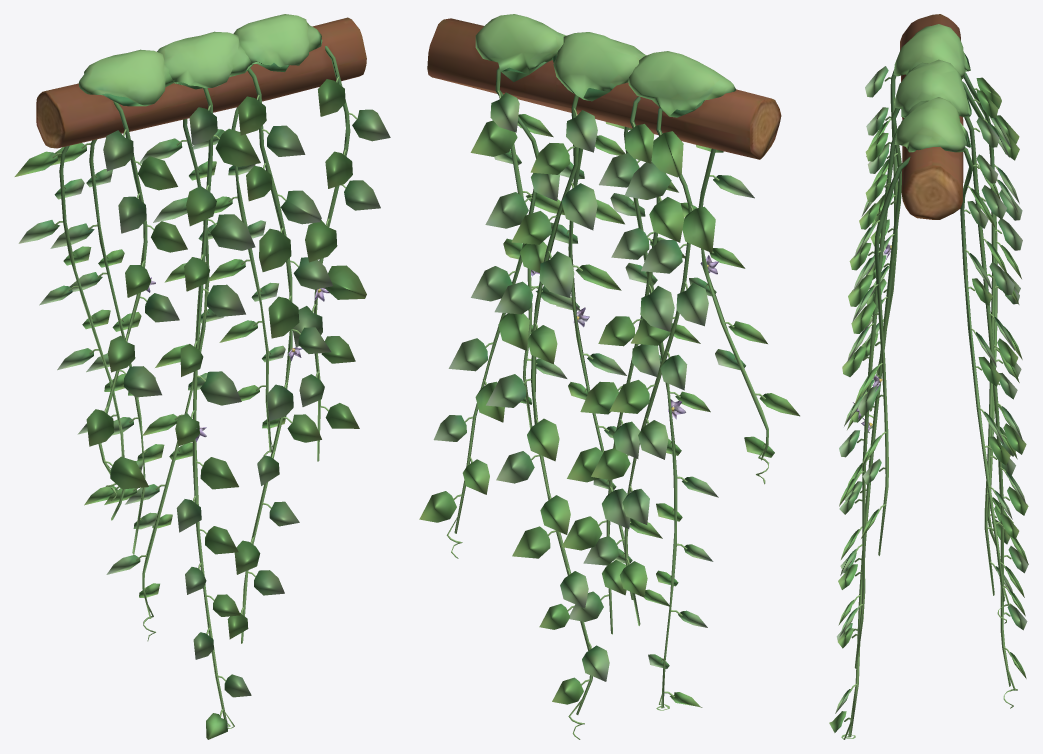
Rendered from hanging-vine.glb.
3 views of the same model, side by side, from view 1: azimuth 30°, elevation 25°; view 2: azimuth 150°, elevation 25°; view 3: azimuth 270°, elevation 25° (orthographic). The views are drawn at different scales.
Parts seen in each view (by area): view 1: hanging-vine_body; view 2: hanging-vine_body; view 3: hanging-vine_body.
Boxes of the visible parts, x1,y1,x2,y2 form: hanging-vine_body: (14, 14, 390, 739); hanging-vine_body: (419, 14, 799, 739); hanging-vine_body: (829, 14, 1028, 739).
Bounding box in the file's own units: 0.5002 × 1.03 × 0.277.
Materials: 1 (1 with a texture image).
